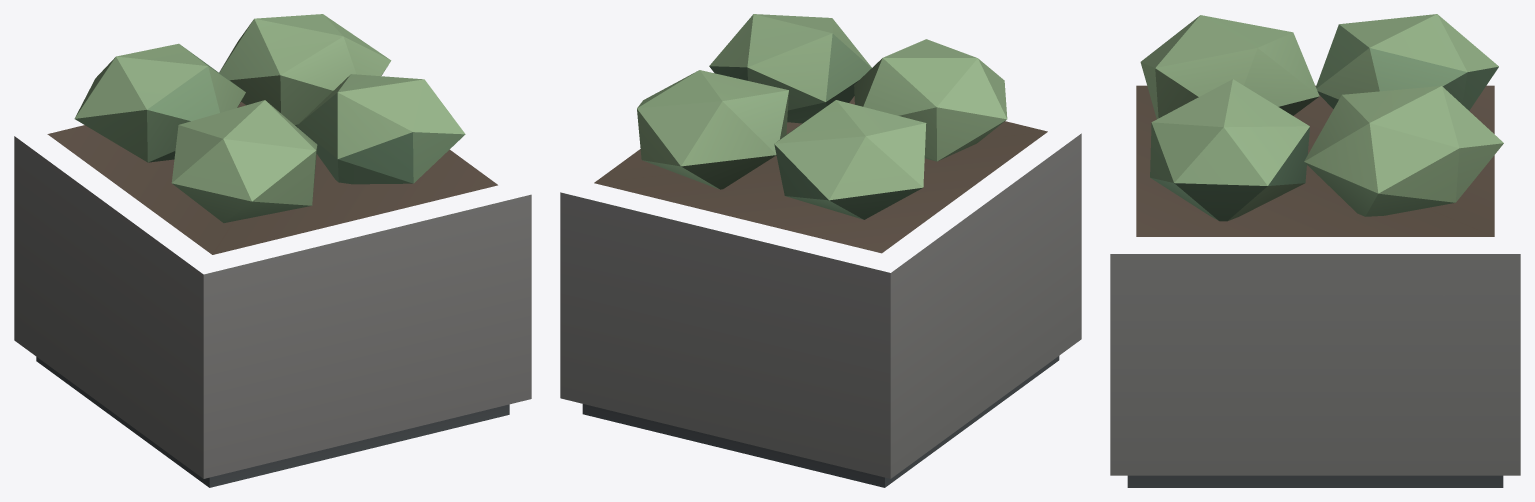
File: planter.lod2.glb
The picture shows the model from 3 angles, left to right: view 1: azimuth 30°, elevation 25°; view 2: azimuth 150°, elevation 25°; view 3: azimuth 270°, elevation 25°; orthographic projection. The views are drawn at different scales.
Size of the model in its own units: 0.94 by 0.8681 by 0.94.
